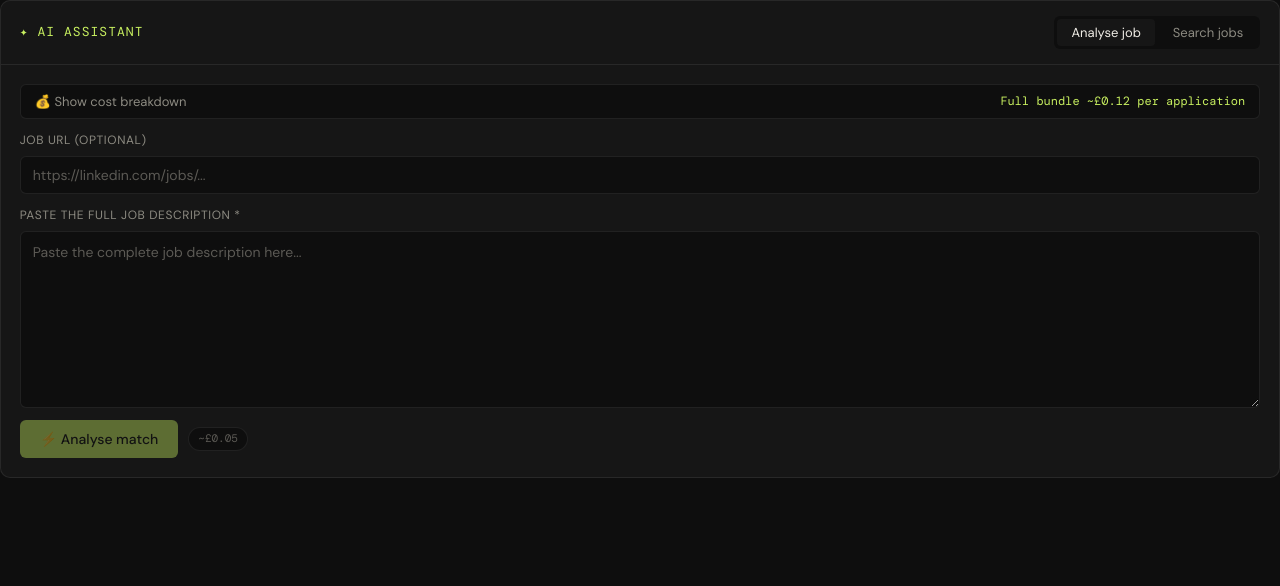
Test: AIPanel › cost breakdown › shows the cost breakdown when requested
Check: the text "Estimated cost (Claude Sonnet 5)" is not shown
Click the button "💰 Show cost breakdown Full bundle ~£0.12 per application".
click(71, 101)  # box [20,84,1260,119]
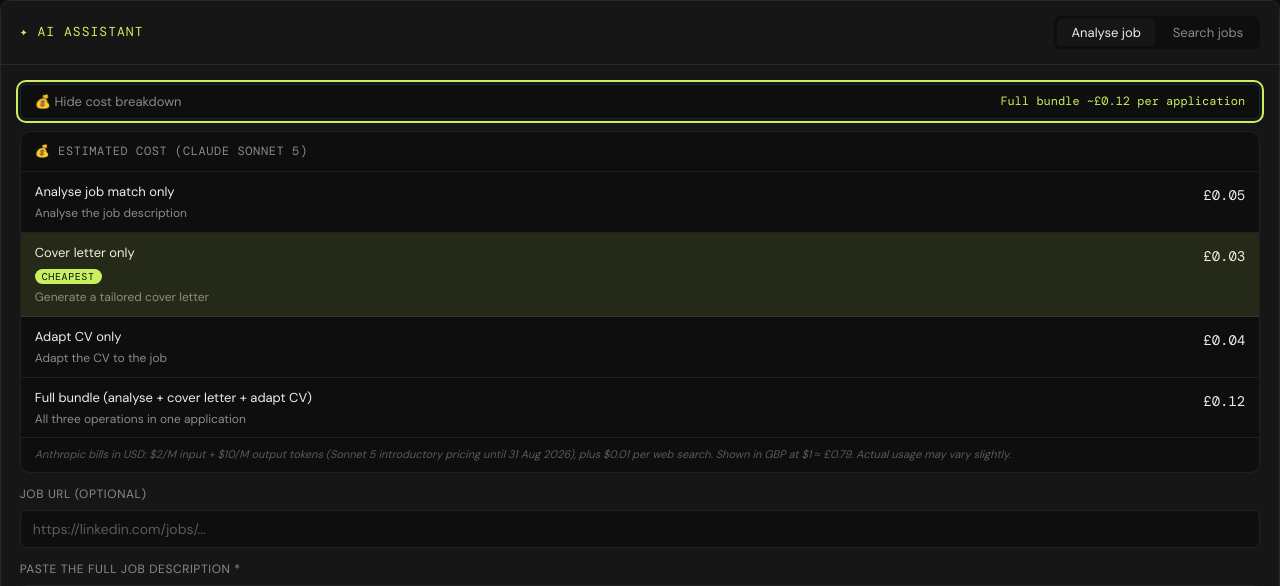
Check: the text "💰 Estimated cost (Claude Sonnet 5)" is shown, box [21,132,1259,172]
Check: the text "Analyse job match only" is shown, box [35,182,187,203]
Check: the text "Full bundle (analyse + cover letter + adapt CV)" is shown, box [35,388,312,408]
